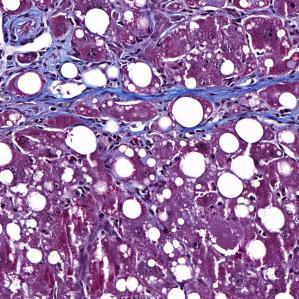fibrosis: (26, 54, 125, 125)
